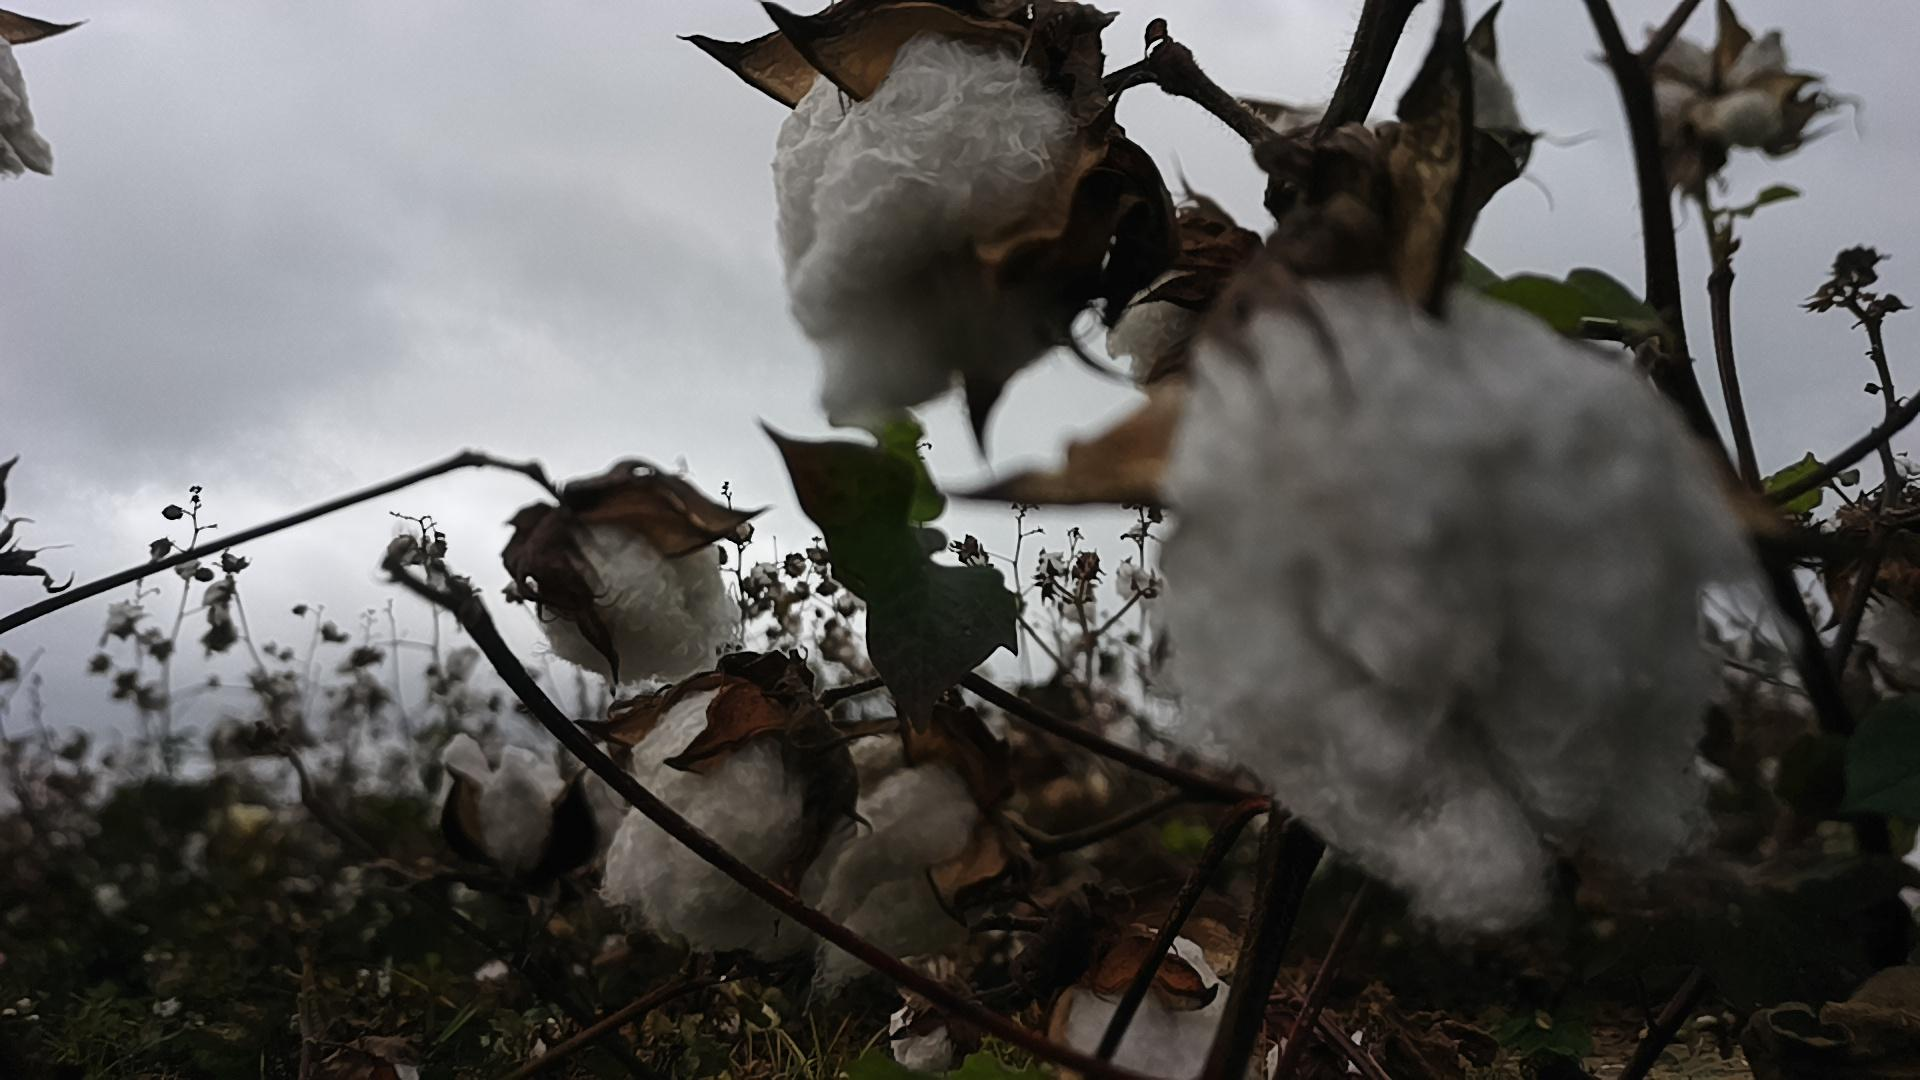cotton_ready: (1142, 268, 1768, 931), (767, 41, 1092, 430), (597, 688, 860, 971), (795, 727, 1021, 998), (539, 512, 748, 691), (1060, 935, 1283, 1080), (1643, 16, 1791, 145), (429, 736, 566, 869), (1102, 273, 1216, 396), (0, 28, 58, 178), (886, 1004, 963, 1080)
